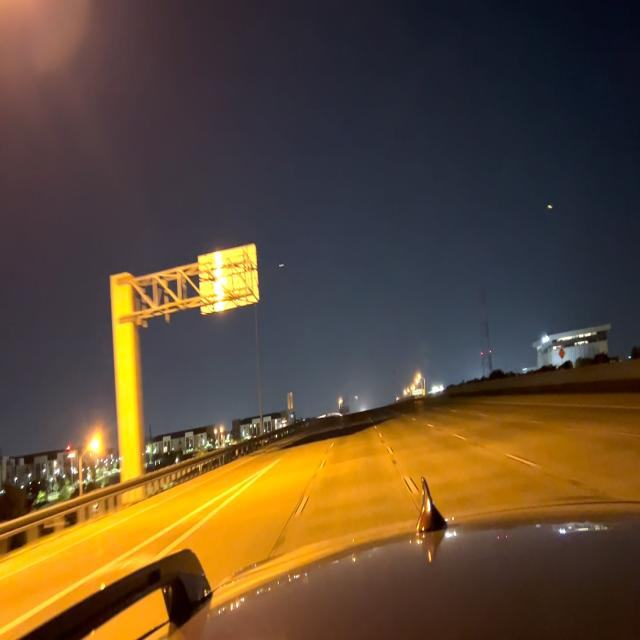back-of-sign: (200, 242, 262, 316)
